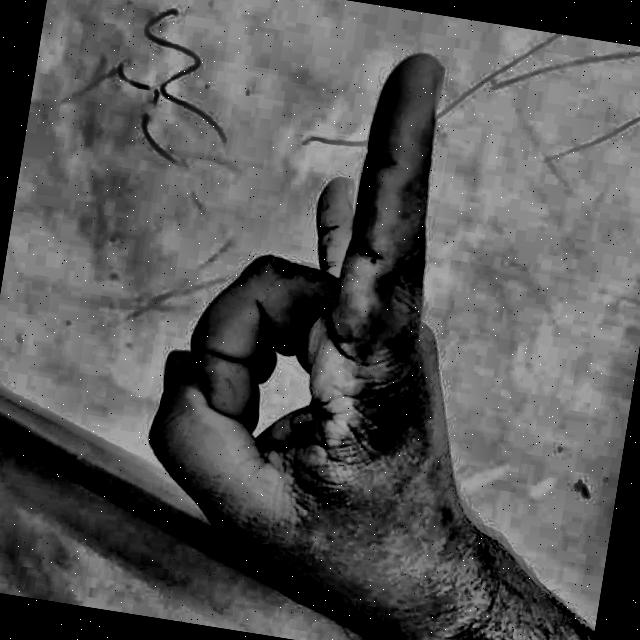Cha: (89, 3, 601, 640)
